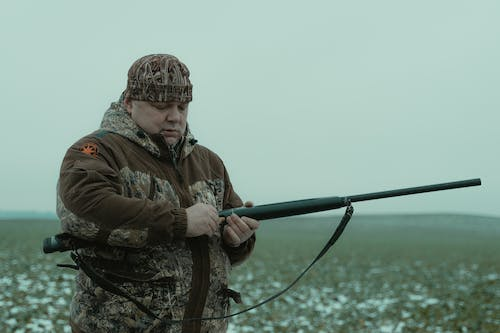gun: (41, 177, 482, 255)
